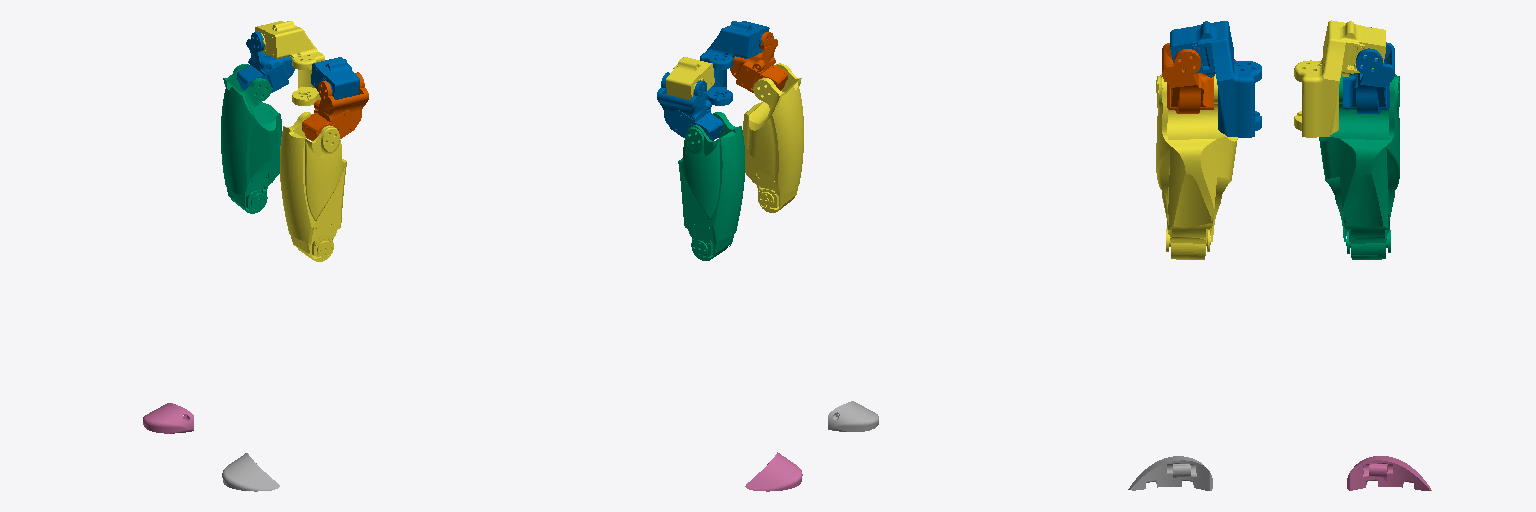
The robot description file, URDF, robot "lilgreen_export":
<?xml version="1.0" encoding="UTF-8"?>
<robot name="lilgreen_export">
  <joint name="leg_left_ankle_pitch_joint" type="revolute">
    <origin xyz="-0.0038284 -0.0112705 -0.1893684" rpy="0.0209596 0.019935 0.0833615"/>
    <parent link="leg_left_knee_pitch"/>
    <child link="leg_left_ankle_pitch"/>
    <axis xyz="1. 0. 0."/>
    <limit lower="-0.4502949" upper="1.2007866" effort="20." velocity="100.000003"/>
  </joint>
  <joint name="leg_left_ankle_roll_joint" type="revolute">
    <origin xyz="0.0283381 0.028084 -0.0499018" rpy="0.0288252 -0.018783 -1.572211 "/>
    <parent link="leg_left_ankle_pitch"/>
    <child link="leg_left_ankle_roll"/>
    <axis xyz="1. 0. 0."/>
    <limit lower="-0.3001966" upper="0.7993608" effort="20." velocity="100.000003"/>
  </joint>
  <joint name="leg_left_hip_pitch_joint" type="revolute">
    <origin xyz="-0.009888 -0.018339 -0.048803" rpy="0.008816 0.0080481 1.6618049"/>
    <parent link="leg_left_hip_yaw"/>
    <child link="leg_left_hip_pitch"/>
    <axis xyz="1. 0. 0."/>
    <limit lower="-0.3996804" upper="1.4992379" effort="20." velocity="100.000003"/>
  </joint>
  <joint name="leg_left_hip_roll_joint" type="revolute">
    <origin xyz="0.100357 -0.025375 0.444139" rpy="-3.1415925 0. -3.1415925"/>
    <parent link="berkeley_humanoid_lite"/>
    <child link="leg_left_hip_roll"/>
    <axis xyz="0. 0. 1."/>
    <limit lower="0.699877" upper="-0.4991642" effort="20." velocity="100.000003"/>
  </joint>
  <joint name="leg_left_hip_yaw_joint" type="revolute">
    <origin xyz="0.031362 -0.048681 -0.017448" rpy="-3.1415925 0. -3.1415925"/>
    <parent link="leg_left_hip_roll"/>
    <child link="leg_left_hip_yaw"/>
    <axis xyz="1. 0. 0."/>
    <limit lower="-1.0000736" upper="0.0994838" effort="20." velocity="100.000003"/>
  </joint>
  <joint name="leg_left_knee_pitch_joint" type="revolute">
    <origin xyz="0.0013305 0.0013778 -0.1417745" rpy="0.0010741 0.0003392 -0.0872661"/>
    <parent link="leg_left_hip_pitch"/>
    <child link="leg_left_knee_pitch"/>
    <axis xyz="1. 0. 0."/>
    <limit lower="-1.5358897" upper="0." effort="20." velocity="100.000003"/>
  </joint>
  <joint name="leg_left_toe_pitch_joint" type="revolute">
    <origin xyz="-0.0669574 -0.0069572 -0.0157914" rpy="-0.0095996 0.0027356 1.5707976"/>
    <parent link="leg_left_ankle_roll"/>
    <child link="leg_left_toe_pitch"/>
    <axis xyz="1. 0. 0."/>
    <limit lower="-0.6981317" upper="0.3490659" effort="0.01" velocity="0.0087266"/>
  </joint>
  <joint name="leg_right_ankle_pitch_joint" type="revolute">
    <origin xyz="0.0030039 -0.0020223 -0.1900796" rpy="0.0011208 0.003804 -0.0871928"/>
    <parent link="leg_right_knee_pitch"/>
    <child link="leg_right_ankle_pitch"/>
    <axis xyz="1. 0. 0."/>
    <limit lower="-0.9983283" upper="0.4485496" effort="20." velocity="100.000003"/>
  </joint>
  <joint name="leg_right_ankle_roll_joint" type="revolute">
    <origin xyz="-0.0282174 0.0303339 -0.0484072" rpy="-0.3752965 -0.0423932 1.5707959"/>
    <parent link="leg_right_ankle_pitch"/>
    <child link="leg_right_ankle_roll"/>
    <axis xyz="1. 0. 0."/>
    <limit lower="-0.7993608" upper="0.3001966" effort="20." velocity="100.000003"/>
  </joint>
  <joint name="leg_right_hip_pitch_joint" type="revolute">
    <origin xyz="0.009388 -0.018339 -0.048803" rpy="-0.0073471 -0.0080481 -1.6618048"/>
    <parent link="leg_right_hip_yaw"/>
    <child link="leg_right_hip_pitch"/>
    <axis xyz="1. 0. 0."/>
    <limit lower="-1.4992379" upper="0.3996804" effort="20." velocity="100.000003"/>
  </joint>
  <joint name="leg_right_hip_roll_joint" type="revolute">
    <origin xyz="0.099925 0.030342 0.444139" rpy="0. 0. 0."/>
    <parent link="berkeley_humanoid_lite"/>
    <child link="leg_right_hip_roll"/>
    <axis xyz="0. 0. 1."/>
    <limit lower="-0.699877" upper="0.4991642" effort="20." velocity="100.000003"/>
  </joint>
  <joint name="leg_right_hip_yaw_joint" type="revolute">
    <origin xyz="-0.031362 0.048681 0.017448" rpy="0. 0. -3.1415925"/>
    <parent link="leg_right_hip_roll"/>
    <child link="leg_right_hip_yaw"/>
    <axis xyz="1. 0. 0."/>
    <limit lower="-0.0994838" upper="1.0000736" effort="20." velocity="100.000003"/>
  </joint>
  <joint name="leg_right_knee_pitch_joint" type="revolute">
    <origin xyz="-0.0013345 0.0034611 -0.1422623" rpy="-0.0203296 -0.0210229 0.090848 "/>
    <parent link="leg_right_hip_pitch"/>
    <child link="leg_right_knee_pitch"/>
    <axis xyz="1. 0. 0."/>
    <limit lower="1.5358897" upper="0." effort="20." velocity="100.000003"/>
  </joint>
  <joint name="leg_right_toe_pitch_joint" type="revolute">
    <origin xyz="0.0669571 -0.0000343 -0.0172558" rpy="-0.0104014 0.4102035 -1.5707948"/>
    <parent link="leg_right_ankle_roll"/>
    <child link="leg_right_toe_pitch"/>
    <axis xyz="1. 0. 0."/>
    <limit lower="-0.3490659" upper="0.698132" effort="0.01" velocity="0.0087266"/>
  </joint>
  <link name="berkeley_humanoid_lite">
    <visual>
      <origin xyz="0. 0. 0." rpy="0. 0. 0."/>
      <geometry>
        <mesh filename="mesh/visuals_01.obj" scale="1. 1. 1."/>
      </geometry>
    </visual>
    <collision>
      <origin xyz="0. 0. 0." rpy="0. 0. 0."/>
      <geometry>
        <mesh filename="mesh/collisions_01.obj" scale="1. 1. 1."/>
      </geometry>
    </collision>
  </link>
  <link name="leg_left_ankle_pitch">
    <inertial>
      <origin xyz="0. 0. 0." rpy="0. 0. 0."/>
      <mass value="0.1"/>
      <inertia ixx="0.001" ixy="0." ixz="0." iyy="0.001" iyz="0." izz="0.001"/>
    </inertial>
    <visual>
      <origin xyz="0.1056153 0.0547839 -0.0803746" rpy="0.0308467 -0.0282649 -1.6580995"/>
      <geometry>
        <mesh filename="mesh/leg_left_ankle_pitch_visuals.obj" scale="1. 1. 1."/>
      </geometry>
    </visual>
  </link>
  <link name="leg_left_ankle_roll">
    <inertial>
      <origin xyz="0. 0. 0." rpy="0. 0. 0."/>
      <mass value="0.7"/>
      <inertia ixx="0.001" ixy="0." ixz="0." iyy="0.001" iyz="0." izz="0.001"/>
    </inertial>
    <visual>
      <origin xyz="-0.0273763 0.0763438 -0.0321776" rpy="0.0005145 -0.0120198 -0.0855565"/>
      <geometry>
        <mesh filename="mesh/leg_left_ankle_roll_visuals.obj" scale="1. 1. 1."/>
      </geometry>
    </visual>
    <collision>
      <origin xyz="-0.0273763 0.0763438 -0.0321776" rpy="0.0005145 -0.0120198 -0.0855565"/>
      <geometry>
        <mesh filename="mesh/leg_left_ankle_roll_collisions.obj" scale="1. 1. 1."/>
      </geometry>
    </collision>
  </link>
  <link name="leg_left_hip_pitch">
    <inertial>
      <origin xyz="0. 0. 0." rpy="0. 0. 0."/>
      <mass value="0.9"/>
      <inertia ixx="0.001" ixy="0." ixz="0." iyy="0.001" iyz="0." izz="0.001"/>
    </inertial>
    <visual>
      <origin xyz="0.1007034 0.0468313 -0.4124158" rpy="0.008816 -0.0080481 -1.6618049"/>
      <geometry>
        <mesh filename="mesh/leg_left_hip_pitch_visuals.obj" scale="1. 1. 1."/>
      </geometry>
    </visual>
  </link>
  <link name="leg_left_hip_roll">
    <inertial>
      <origin xyz="0. 0. 0." rpy="0. 0. 0."/>
      <mass value="0.8"/>
      <inertia ixx="0.001" ixy="0." ixz="0." iyy="0.001" iyz="0." izz="0.001"/>
    </inertial>
    <visual>
      <origin xyz="0.100357 0.025375 0.444139" rpy="-3.1415925 0. -3.1415925"/>
      <geometry>
        <mesh filename="mesh/leg_left_hip_roll_visuals.obj" scale="1. 1. 1."/>
      </geometry>
    </visual>
  </link>
  <link name="leg_left_hip_yaw">
    <inertial>
      <origin xyz="0. 0. 0." rpy="0. 0. 0."/>
      <mass value="0.8"/>
      <inertia ixx="0.001" ixy="0." ixz="0." iyy="0.001" iyz="0." izz="0.001"/>
    </inertial>
    <visual>
      <origin xyz="-0.068995 0.074056 -0.461587" rpy="0. 0. 0."/>
      <geometry>
        <mesh filename="mesh/leg_left_hip_yaw_visuals.obj" scale="1. 1. 1."/>
      </geometry>
    </visual>
    <collision>
      <origin xyz="-0.068995 0.074056 -0.461587" rpy="0. 0. 0."/>
      <geometry>
        <mesh filename="mesh/leg_left_hip_yaw_collisions.obj" scale="1. 1. 1."/>
      </geometry>
    </collision>
  </link>
  <link name="leg_left_knee_pitch">
    <inertial>
      <origin xyz="0. 0. 0." rpy="0. 0. 0."/>
      <mass value="0.6"/>
      <inertia ixx="0.001" ixy="0." ixz="0." iyy="0.001" iyz="0." izz="0.001"/>
    </inertial>
    <visual>
      <origin xyz="0.095125 0.0536507 -0.2706667" rpy="0.0091593 -0.0091209 -1.5745418"/>
      <geometry>
        <mesh filename="mesh/leg_left_knee_pitch_visuals.obj" scale="1. 1. 1."/>
      </geometry>
    </visual>
    <collision>
      <origin xyz="0.095125 0.0536507 -0.2706667" rpy="0.0091593 -0.0091209 -1.5745418"/>
      <geometry>
        <mesh filename="mesh/leg_left_knee_pitch_collisions.obj" scale="1. 1. 1."/>
      </geometry>
    </collision>
  </link>
  <link name="leg_left_toe_pitch">
    <inertial>
      <origin xyz="0. 0. 0." rpy="0. 0. 0."/>
      <mass value="0.05"/>
      <inertia ixx="0.001" ixy="0." ixz="0." iyy="0.001" iyz="0." izz="0.001"/>
    </inertial>
    <visual>
      <origin xyz="0.0833453 -0.0394239 -0.0165376" rpy="0.0024197 -0.0022203 -1.6563727"/>
      <geometry>
        <mesh filename="mesh/leg_left_toe_pitch_visuals.obj" scale="1. 1. 1."/>
      </geometry>
    </visual>
    <collision>
      <origin xyz="0.0833453 -0.0394239 -0.0165376" rpy="0.0024197 -0.0022203 -1.6563727"/>
      <geometry>
        <mesh filename="mesh/leg_left_toe_pitch_collisions.obj" scale="1. 1. 1."/>
      </geometry>
    </collision>
  </link>
  <link name="leg_right_ankle_pitch">
    <inertial>
      <origin xyz="0. 0. 0." rpy="0. 0. 0."/>
      <mass value="0.1"/>
      <inertia ixx="0.001" ixy="0." ixz="0." iyy="0.001" iyz="0." izz="0.001"/>
    </inertial>
    <visual>
      <origin xyz="-0.1131083 0.0566011 -0.076319 " rpy="-0.0246776 0.0269312 -1.4835082"/>
      <geometry>
        <mesh filename="mesh/leg_right_ankle_pitch_visuals.obj" scale="1. 1. 1."/>
      </geometry>
    </visual>
  </link>
  <link name="leg_right_ankle_roll">
    <inertial>
      <origin xyz="0. 0. 0." rpy="0. 0. 0."/>
      <mass value="0.7"/>
      <inertia ixx="0.001" ixy="0." ixz="0." iyy="0.001" iyz="0." izz="0.001"/>
    </inertial>
    <visual>
      <origin xyz="0.0250607 0.0896123 0.0041352" rpy="-0.4022321 0.0177091 -3.054781 "/>
      <geometry>
        <mesh filename="mesh/leg_right_ankle_roll_visuals.obj" scale="1. 1. 1."/>
      </geometry>
    </visual>
    <collision>
      <origin xyz="0.0250607 0.0896123 0.0041352" rpy="-0.4022321 0.0177091 -3.054781 "/>
      <geometry>
        <mesh filename="mesh/leg_right_ankle_roll_collisions.obj" scale="1. 1. 1."/>
      </geometry>
    </collision>
  </link>
  <link name="leg_right_hip_pitch">
    <inertial>
      <origin xyz="0. 0. 0." rpy="0. 0. 0."/>
      <mass value="0.9"/>
      <inertia ixx="0.001" ixy="0." ixz="0." iyy="0.001" iyz="0." izz="0.001"/>
    </inertial>
    <visual>
      <origin xyz="-0.1056558 0.0531068 -0.411568 " rpy="-0.0073471 0.0080481 -1.4797878"/>
      <geometry>
        <mesh filename="mesh/leg_right_hip_pitch_visuals.obj" scale="1. 1. 1."/>
      </geometry>
    </visual>
  </link>
  <link name="leg_right_hip_roll">
    <inertial>
      <origin xyz="0. 0. 0." rpy="0. 0. 0."/>
      <mass value="0.8"/>
      <inertia ixx="0.001" ixy="0." ixz="0." iyy="0.001" iyz="0." izz="0.001"/>
    </inertial>
    <visual>
      <origin xyz="-0.099925 -0.030342 -0.444139" rpy="0. 0. 0."/>
      <geometry>
        <mesh filename="mesh/leg_right_hip_roll_visuals.obj" scale="1. 1. 1."/>
      </geometry>
    </visual>
  </link>
  <link name="leg_right_hip_yaw">
    <inertial>
      <origin xyz="0. 0. 0." rpy="0. 0. 0."/>
      <mass value="0.8"/>
      <inertia ixx="0.001" ixy="0." ixz="0." iyy="0.001" iyz="0." izz="0.001"/>
    </inertial>
    <visual>
      <origin xyz="0.068563 0.079023 -0.461587" rpy="0. 0. -3.1415925"/>
      <geometry>
        <mesh filename="mesh/leg_right_hip_yaw_visuals.obj" scale="1. 1. 1."/>
      </geometry>
    </visual>
    <collision>
      <origin xyz="0.068563 0.079023 -0.461587" rpy="0. 0. -3.1415925"/>
      <geometry>
        <mesh filename="mesh/leg_right_hip_yaw_collisions.obj" scale="1. 1. 1."/>
      </geometry>
    </collision>
  </link>
  <link name="leg_right_knee_pitch">
    <inertial>
      <origin xyz="0. 0. 0." rpy="0. 0. 0."/>
      <mass value="0.6"/>
      <inertia ixx="0.001" ixy="0." ixz="0." iyy="0.001" iyz="0." izz="0.001"/>
    </inertial>
    <visual>
      <origin xyz="-0.1050263 0.064324 -0.2659043" rpy="-0.0283709 0.0283793 -1.5708052"/>
      <geometry>
        <mesh filename="mesh/leg_right_knee_pitch_visuals.obj" scale="1. 1. 1."/>
      </geometry>
    </visual>
    <collision>
      <origin xyz="-0.1050263 0.064324 -0.2659043" rpy="-0.0283709 0.0283793 -1.5708052"/>
      <geometry>
        <mesh filename="mesh/leg_right_knee_pitch_collisions.obj" scale="1. 1. 1."/>
      </geometry>
    </collision>
  </link>
  <link name="leg_right_toe_pitch">
    <inertial>
      <origin xyz="0. 0. 0." rpy="0. 0. 0."/>
      <mass value="0.05"/>
      <inertia ixx="0.001" ixy="0." ixz="0." iyy="0.001" iyz="0." izz="0.001"/>
    </inertial>
    <visual>
      <origin xyz="-0.0907402 -0.0417263 -0.0165693" rpy="0.0073076 -0.0079701 -1.4841272"/>
      <geometry>
        <mesh filename="mesh/leg_right_toe_pitch_visuals.obj" scale="1. 1. 1."/>
      </geometry>
    </visual>
    <collision>
      <origin xyz="-0.0907402 -0.0417263 -0.0165693" rpy="0.0073076 -0.0079701 -1.4841272"/>
      <geometry>
        <mesh filename="mesh/leg_right_toe_pitch_collisions.obj" scale="1. 1. 1."/>
      </geometry>
    </collision>
  </link>
</robot>

--- What the picture shows (computed from the rendered views, not written in the file) ---
The picture shows the robot from 3 angles, left to right: view 1: azimuth 30°, elevation 25°; view 2: azimuth 150°, elevation 25°; view 3: azimuth 270°, elevation 25°; orthographic projection.
Model lilgreen_export with 15 links and 14 joints (14 revolute), rooted at berkeley_humanoid_lite, posed all joints at 0.
Visible links, largest first — view 1: leg_left_hip_pitch, leg_right_hip_pitch, leg_right_hip_roll, leg_left_hip_yaw, leg_right_hip_yaw, leg_left_hip_roll, leg_left_toe_pitch, leg_right_toe_pitch; view 2: leg_right_hip_pitch, leg_left_hip_pitch, leg_left_hip_roll, leg_right_hip_yaw, leg_left_hip_yaw, leg_right_hip_roll, leg_right_toe_pitch, leg_left_toe_pitch; view 3: leg_left_hip_pitch, leg_right_hip_pitch, leg_left_hip_roll, leg_right_hip_roll, leg_right_hip_yaw, leg_left_hip_yaw, leg_right_toe_pitch, leg_left_toe_pitch.
Link boxes in pixels (left/top/right/bottom): leg_left_hip_pitch: left=280, top=112, right=346, bottom=261; leg_right_hip_pitch: left=221, top=64, right=281, bottom=213; leg_right_hip_roll: left=255, top=21, right=324, bottom=105; leg_left_hip_yaw: left=302, top=72, right=368, bottom=140; leg_right_hip_yaw: left=237, top=32, right=294, bottom=92; leg_left_hip_roll: left=311, top=57, right=359, bottom=99; leg_left_toe_pitch: left=222, top=453, right=279, bottom=491; leg_right_toe_pitch: left=143, top=403, right=193, bottom=433; leg_right_hip_pitch: left=678, top=112, right=744, bottom=260; leg_left_hip_pitch: left=743, top=63, right=803, bottom=212; leg_left_hip_roll: left=700, top=21, right=769, bottom=105; leg_right_hip_yaw: left=657, top=72, right=723, bottom=140; leg_left_hip_yaw: left=730, top=32, right=787, bottom=92; leg_right_hip_roll: left=666, top=57, right=714, bottom=99; leg_right_toe_pitch: left=745, top=452, right=802, bottom=491; leg_left_toe_pitch: left=828, top=401, right=878, bottom=431; leg_left_hip_pitch: left=1156, top=74, right=1237, bottom=259; leg_right_hip_pitch: left=1319, top=74, right=1399, bottom=259; leg_left_hip_roll: left=1170, top=21, right=1261, bottom=137; leg_right_hip_roll: left=1294, top=20, right=1385, bottom=137; leg_right_hip_yaw: left=1343, top=27, right=1394, bottom=113; leg_left_hip_yaw: left=1162, top=27, right=1213, bottom=113; leg_right_toe_pitch: left=1347, top=456, right=1431, bottom=490; leg_left_toe_pitch: left=1128, top=456, right=1212, bottom=490.
Size in the robot's own frame: 0.199 by 0.2559 by 0.4874 metres.
8 mesh visuals loaded from 15 distinct referenced files (8 OBJ); not drawn: 7 (reference not matched to a file when rendering).
